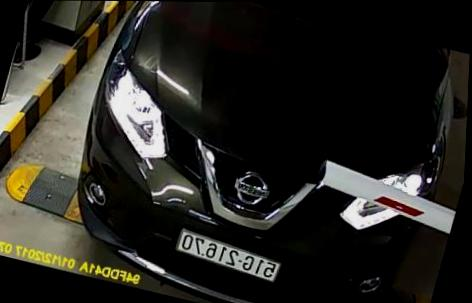License_Plate: (166, 223, 295, 289)
